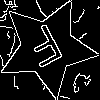F: (22, 22, 71, 77)
